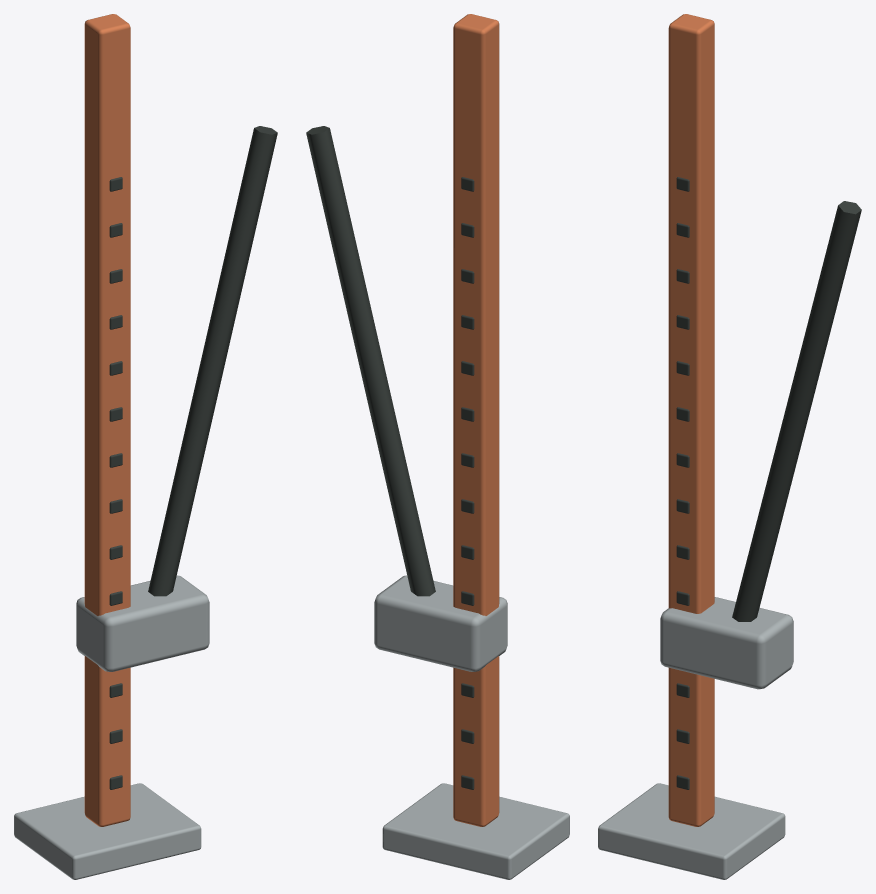
Rendered from survivor-vehicle-maintenance-hi-lift-jack-2bd96d53__26675.glb.
3 views of the same model, side by side, from view 1: azimuth 30°, elevation 25°; view 2: azimuth 150°, elevation 25°; view 3: azimuth 330°, elevation 25° (orthographic).
Parts seen in each view (by area): view 1: hi-lift-jack; view 2: hi-lift-jack; view 3: hi-lift-jack.
Boxes of the visible parts, <box> form: hi-lift-jack: <box>14,14,277,879</box>; hi-lift-jack: <box>306,14,569,879</box>; hi-lift-jack: <box>598,14,861,879</box>.
Size of the model in its own units: 0.3951 by 1.34 by 0.18.
